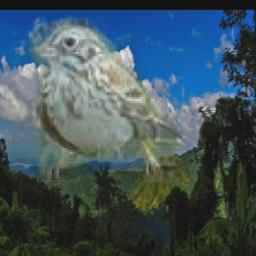Sparrow: (29, 19, 179, 182)
